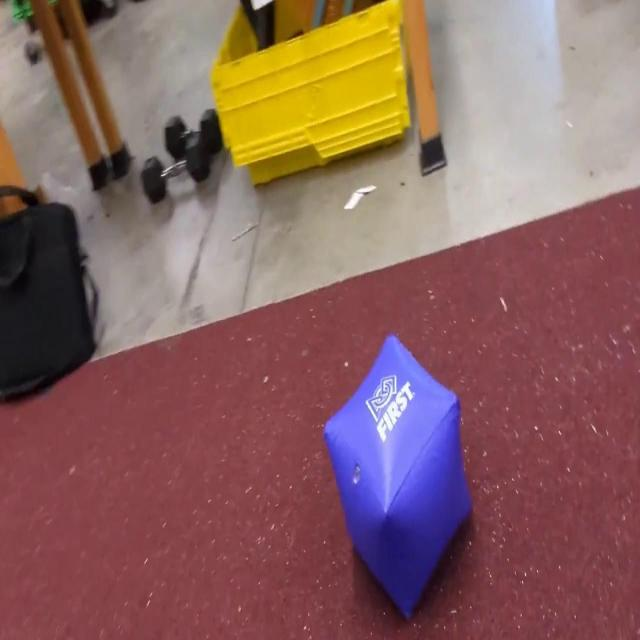frc_cube: (323, 336, 472, 615)
